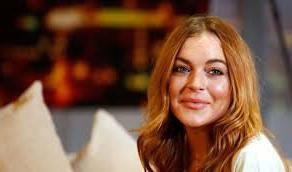Drunk: (171, 40, 230, 123)
